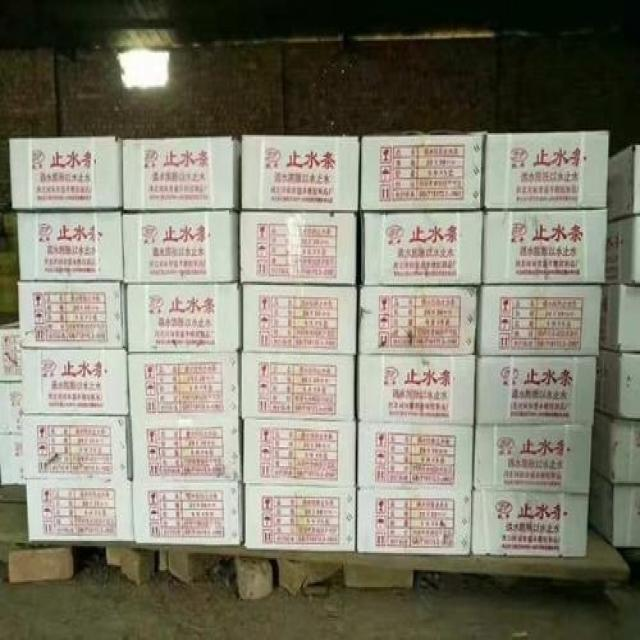box: (483, 126, 611, 210), (358, 133, 486, 212), (483, 208, 608, 285), (242, 133, 360, 212), (122, 135, 241, 212), (477, 285, 604, 357), (8, 133, 123, 212), (360, 210, 484, 283), (238, 212, 358, 285), (357, 283, 480, 352), (357, 353, 477, 423), (474, 423, 593, 493), (241, 283, 356, 355), (123, 212, 239, 283), (475, 357, 599, 423), (471, 490, 590, 558), (128, 282, 242, 352), (241, 353, 356, 422), (243, 418, 356, 488), (356, 422, 475, 488), (356, 488, 471, 556), (244, 485, 356, 553), (17, 212, 123, 282), (17, 280, 128, 346), (128, 352, 241, 416), (132, 480, 244, 544), (131, 416, 242, 480), (23, 348, 129, 415), (23, 416, 133, 480), (27, 480, 134, 543), (589, 474, 640, 550), (590, 411, 640, 488), (595, 350, 639, 422), (600, 283, 640, 352), (608, 143, 640, 222), (604, 215, 640, 285), (0, 319, 22, 381), (0, 437, 26, 485), (0, 382, 20, 435)
